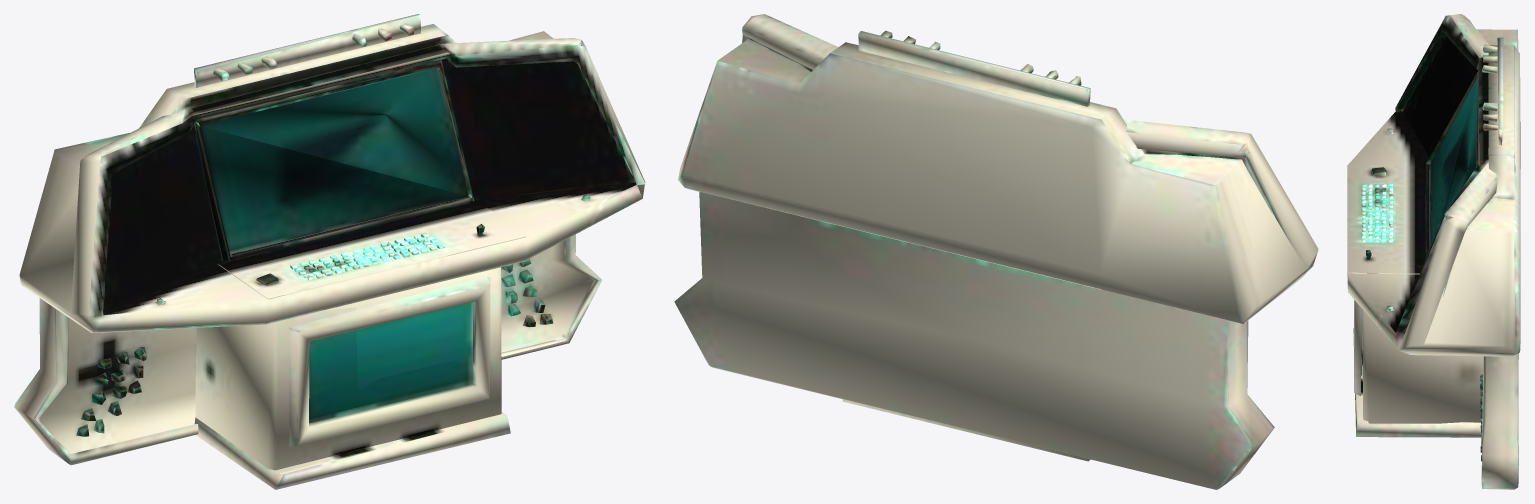
File: console.lod1.glb
The picture shows the model from 3 angles, left to right: view 1: azimuth 30°, elevation 25°; view 2: azimuth 150°, elevation 25°; view 3: azimuth 270°, elevation 25°; orthographic projection. The views are drawn at different scales.
Bounding box in the file's own units: 1.82 × 1.1 × 0.566.
Materials: 1 (1 with a texture image).
